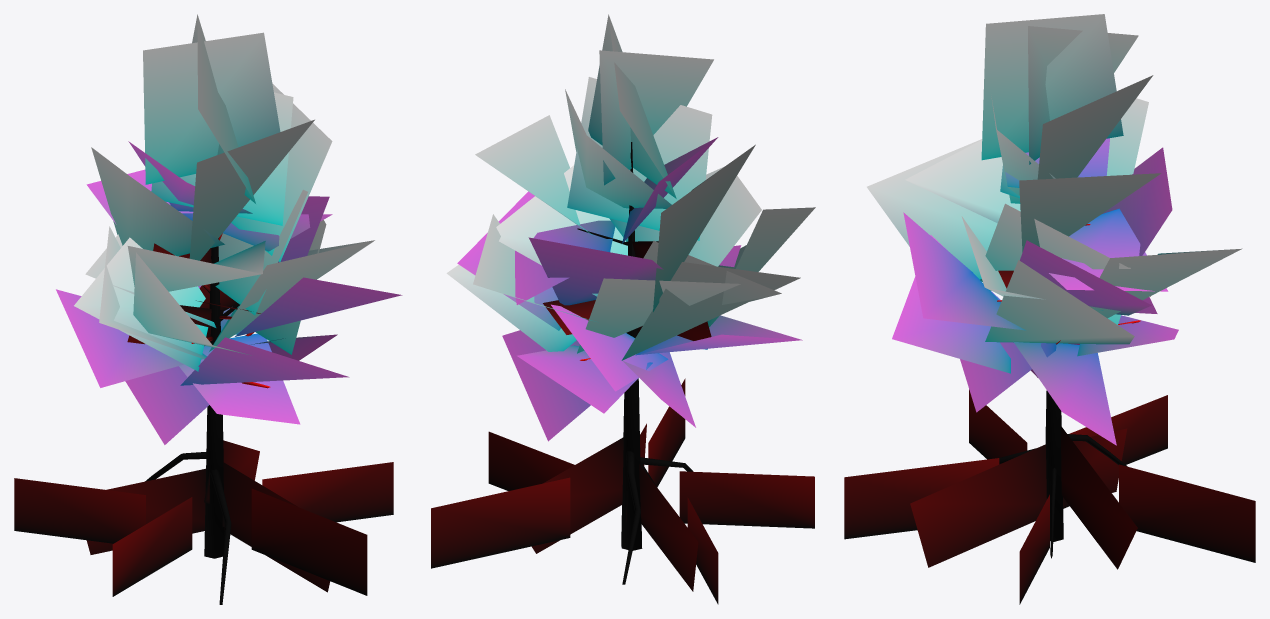
Rendered from swamp_mangrove_b_256.fbx.
The picture shows the model from 3 angles, left to right: view 1: azimuth 30°, elevation 25°; view 2: azimuth 150°, elevation 25°; view 3: azimuth 270°, elevation 25°; orthographic projection. The views are drawn at different scales.
Parts seen in each view (by area): view 1: leavesmb256, treemb256; view 2: leavesmb256, treemb256; view 3: leavesmb256, treemb256.
Part boxes in pixels (x1=…): leavesmb256: x1=14, y1=14, x2=402, y2=596; treemb256: x1=145, y1=233, x2=270, y2=604; leavesmb256: x1=431, y1=14, x2=815, y2=604; treemb256: x1=577, y1=142, x2=692, y2=584; leavesmb256: x1=844, y1=14, x2=1255, y2=604; treemb256: x1=997, y1=224, x2=1140, y2=558.
Size of what is drawn, in the model's own units: 5.01 by 8.18 by 5.71.
